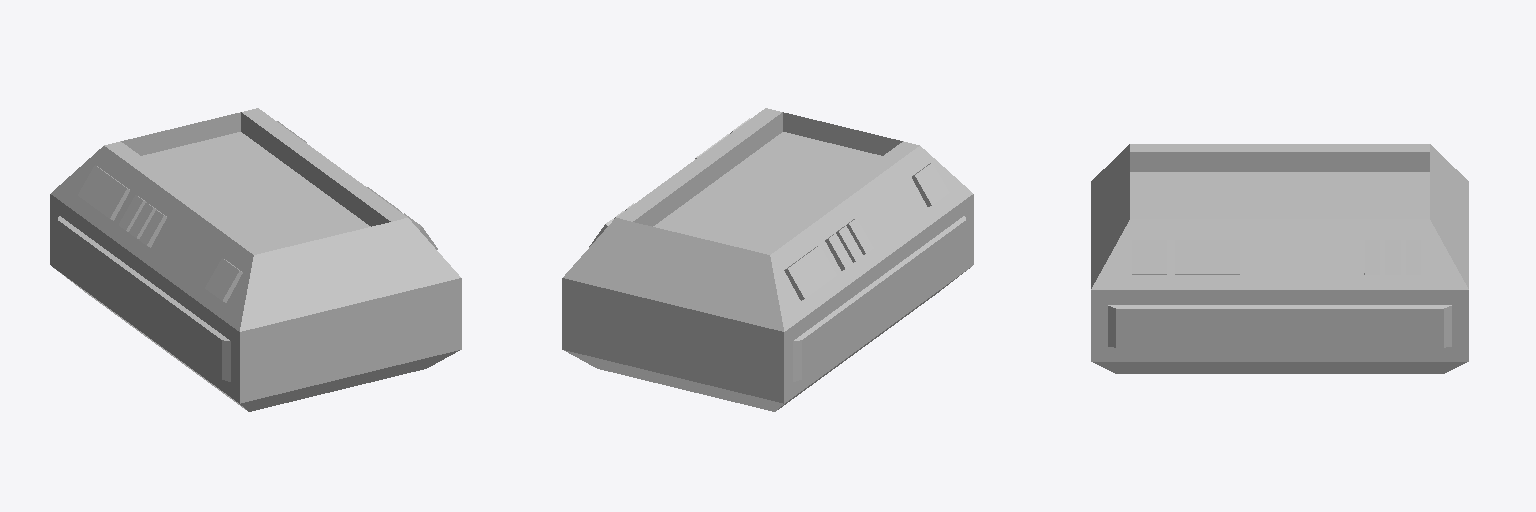
Rendered from Hydroponics_Full.obj.
3 views of the same model, side by side, from view 1: azimuth 30°, elevation 25°; view 2: azimuth 150°, elevation 25°; view 3: azimuth 270°, elevation 25° (orthographic).
Visible parts, largest first — view 1: Hydroponics_Full; view 2: Hydroponics_Full; view 3: Hydroponics_Full.
Part boxes in pixels (x1,y1,x2,y2): Hydroponics_Full: (50,108,461,411); Hydroponics_Full: (562,108,973,411); Hydroponics_Full: (1091,144,1468,373).
Size of the model in its own units: 1.54 by 0.9472 by 2.18.